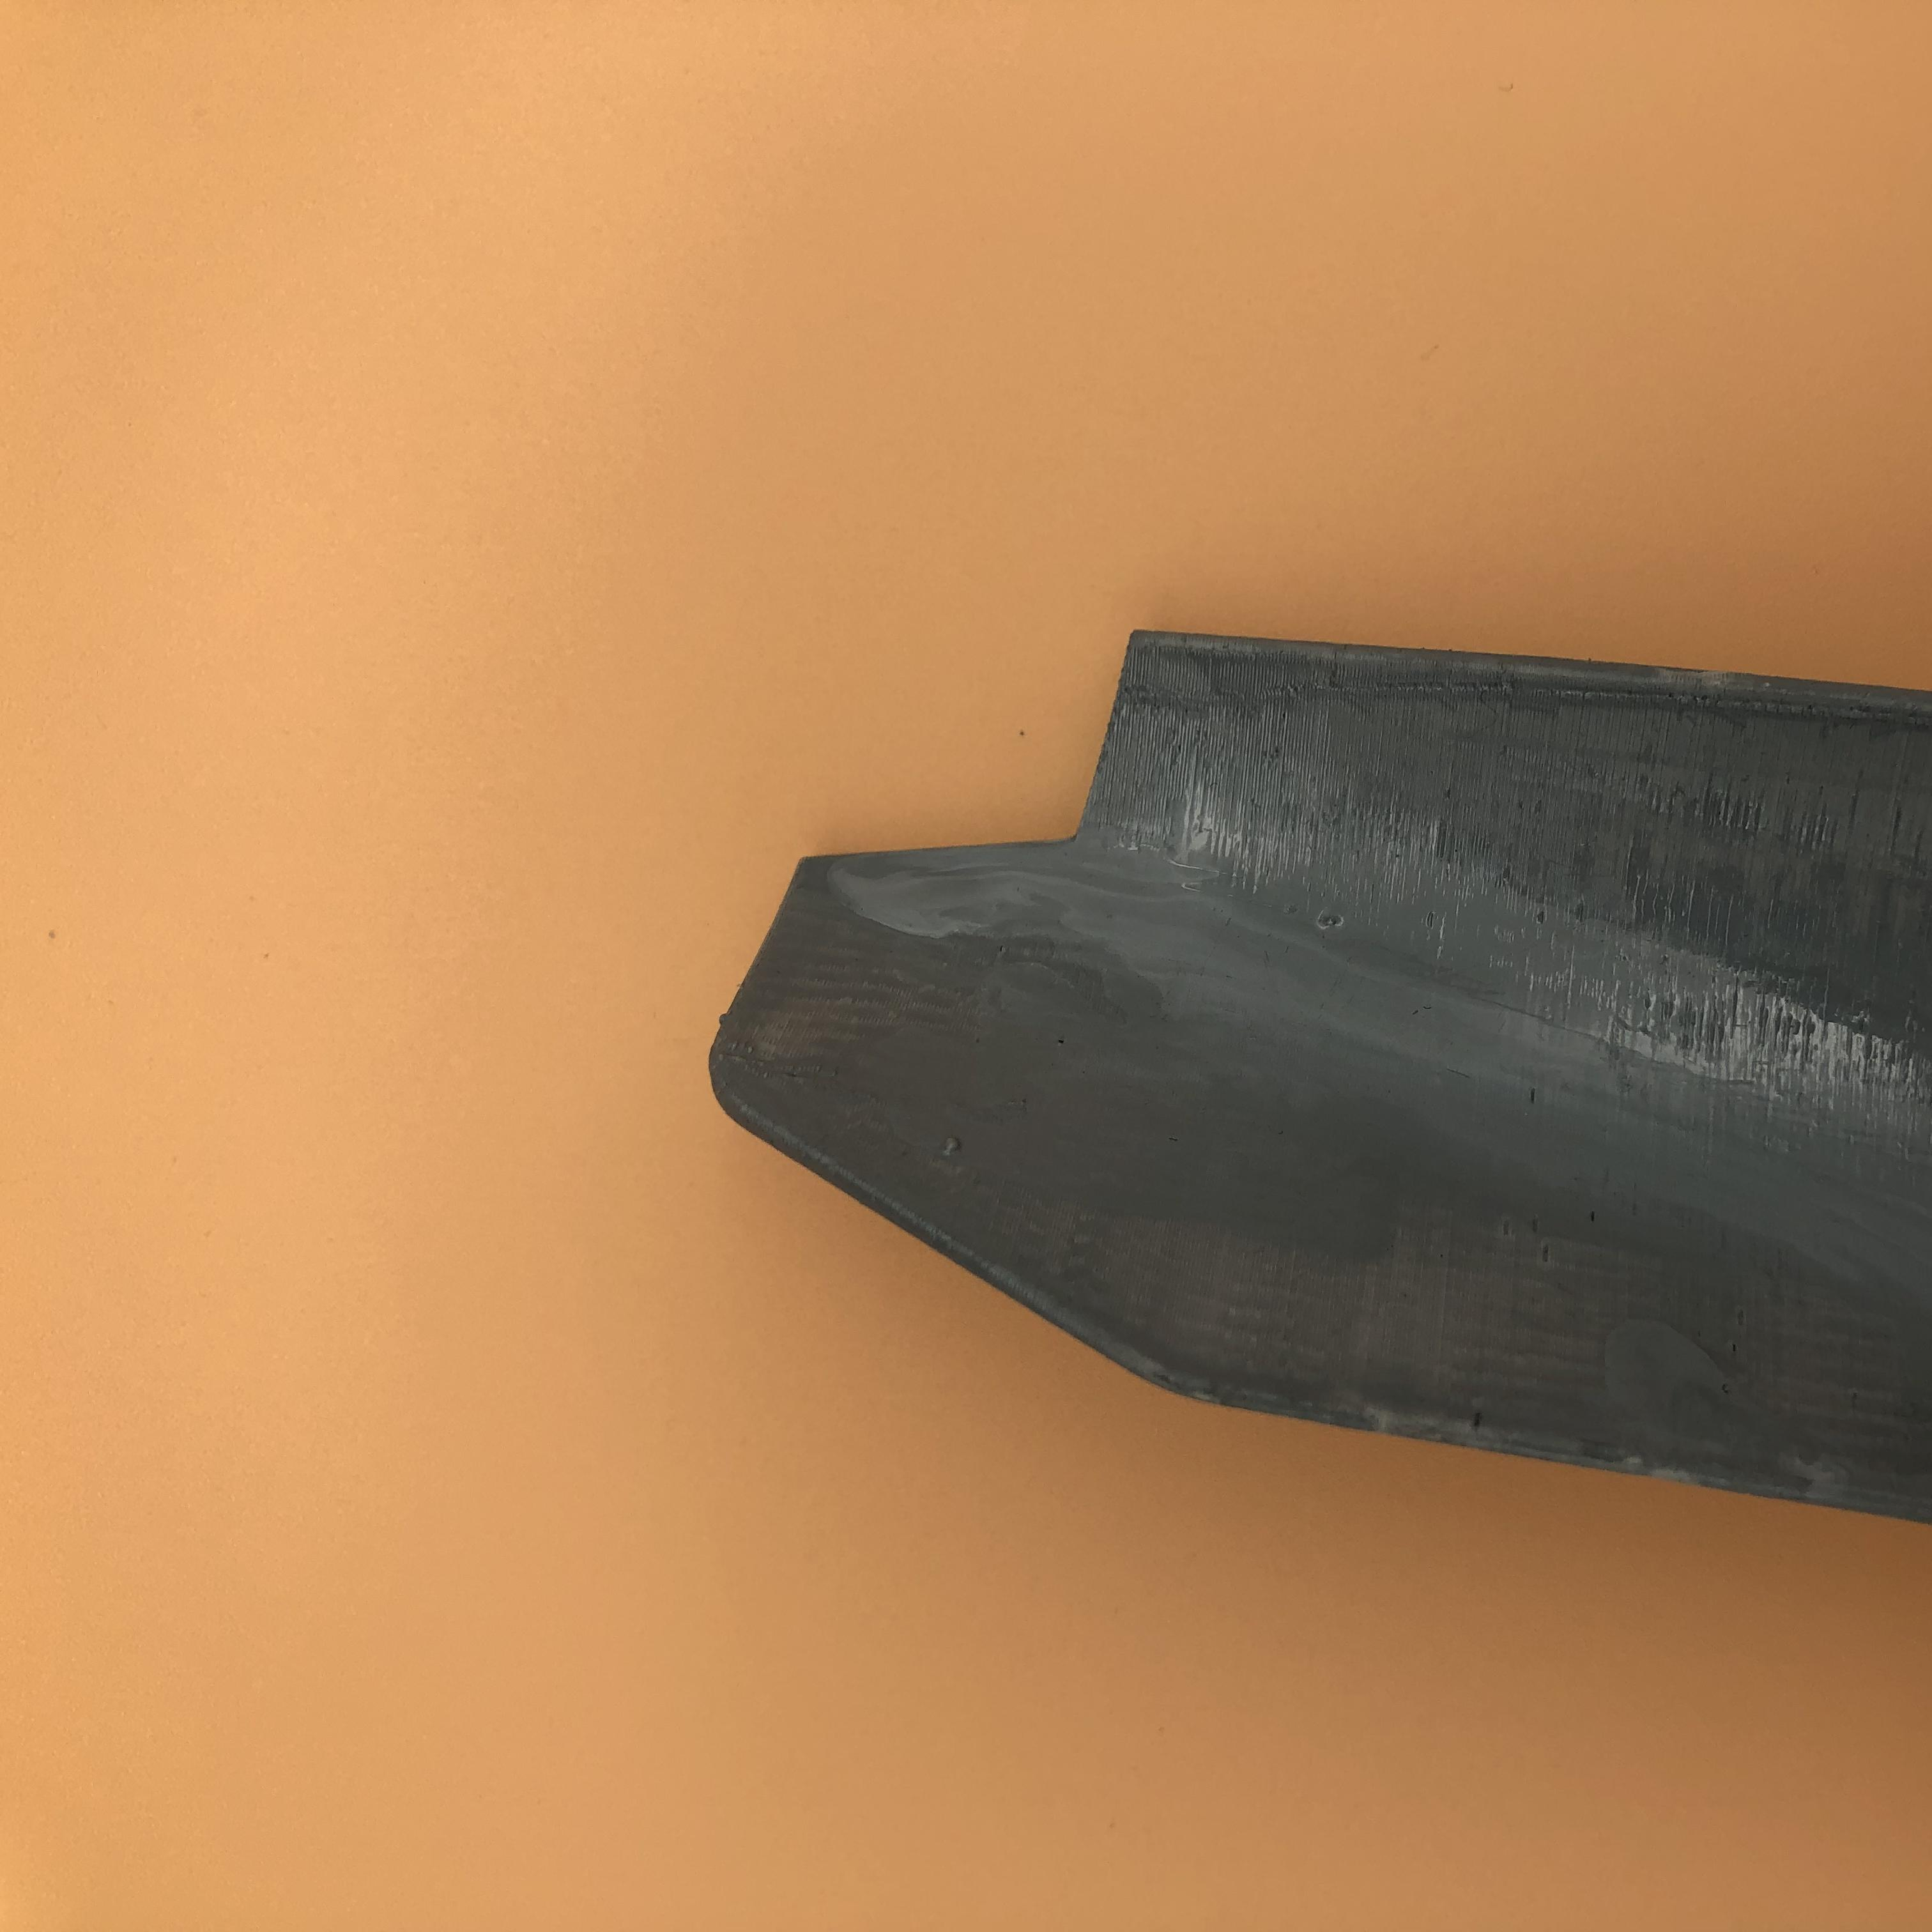fracture: (796, 609, 1196, 927)
